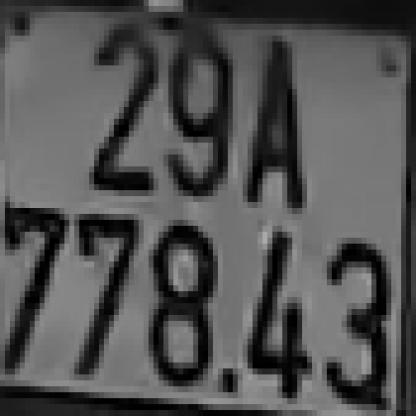2: (89, 30, 159, 196)
3: (322, 238, 386, 398)
4: (243, 220, 307, 398)
7: (74, 208, 139, 368), (5, 208, 59, 368)
8: (149, 220, 208, 380)
9: (168, 30, 228, 196)
A: (248, 36, 307, 208)
